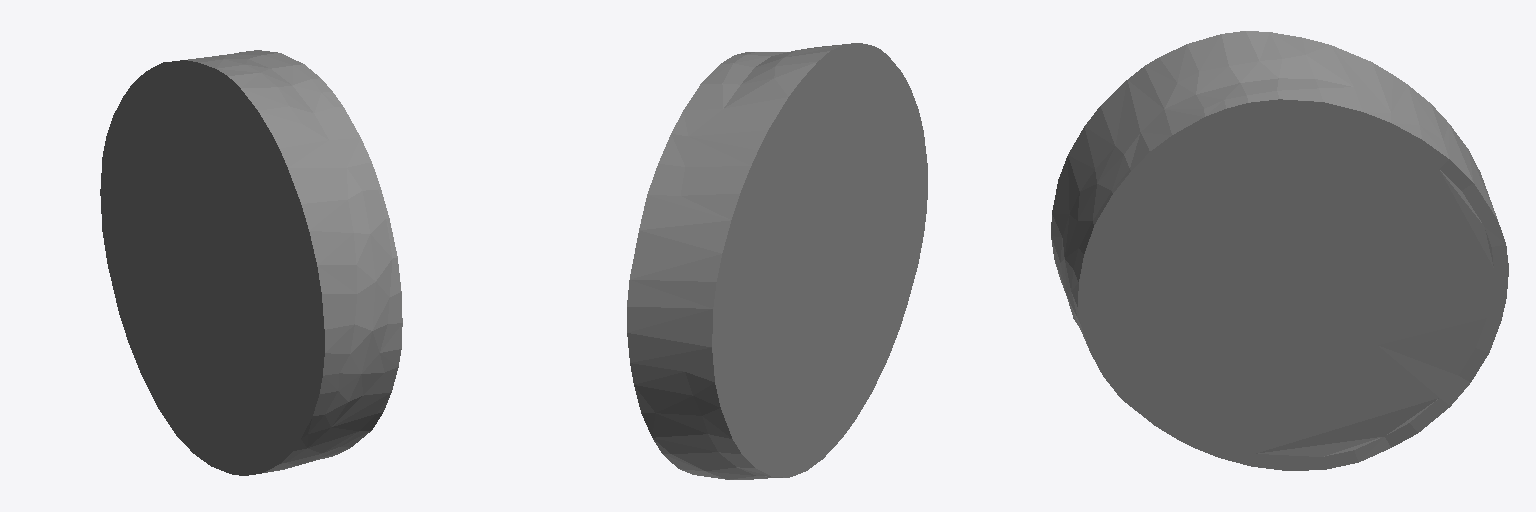
The model's file is half_carrot.obj.
The picture shows the model from 3 angles: view 1: azimuth 30°, elevation 25°; view 2: azimuth 150°, elevation 25°; view 3: azimuth 270°, elevation 25°; orthographic projection.
Visible parts, largest first — view 1: Carrots_2; view 2: Carrots_2; view 3: Carrots_2.
Part boxes in pixels (left/top/right/bottom): Carrots_2: left=100, top=50, right=402, bottom=475; Carrots_2: left=627, top=43, right=927, bottom=479; Carrots_2: left=1051, top=31, right=1508, bottom=470.
Size of the model in its own units: 5.42 by 20.66 by 21.1.